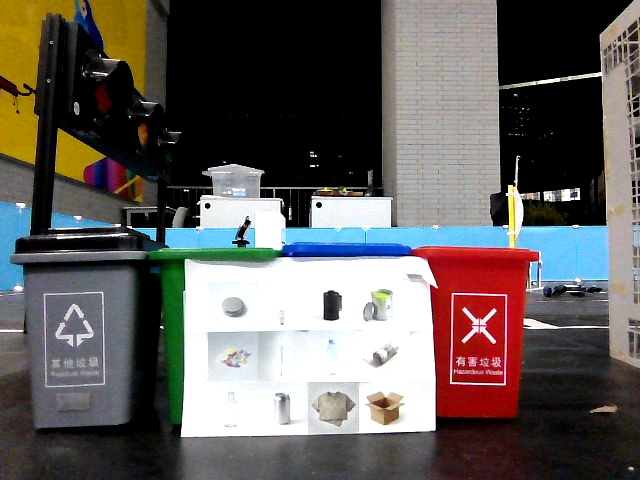hazardous_trash: (260, 285, 306, 330), (208, 284, 254, 327), (209, 336, 257, 377), (263, 333, 310, 374), (359, 284, 400, 324), (315, 289, 352, 328)
recyclable_trash: (308, 382, 360, 431), (259, 382, 304, 434), (211, 384, 254, 437), (362, 384, 410, 429), (360, 333, 409, 374), (314, 332, 357, 374)
